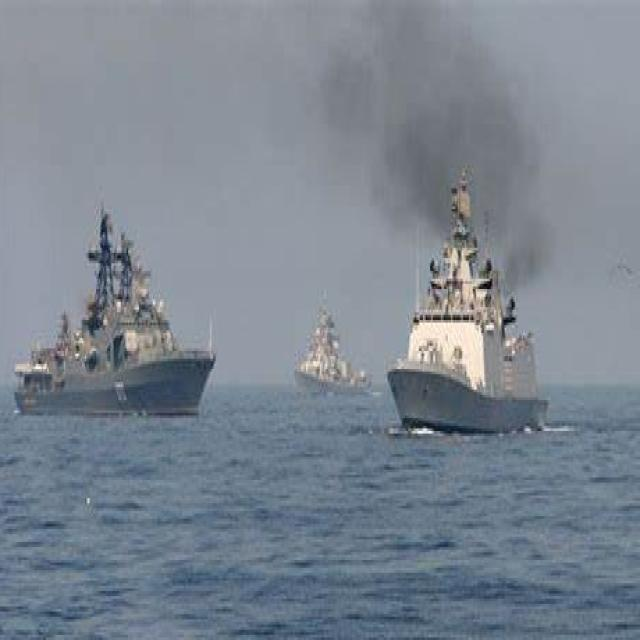navalvessels: (3, 203, 224, 423), (380, 167, 550, 437), (296, 299, 370, 395)
